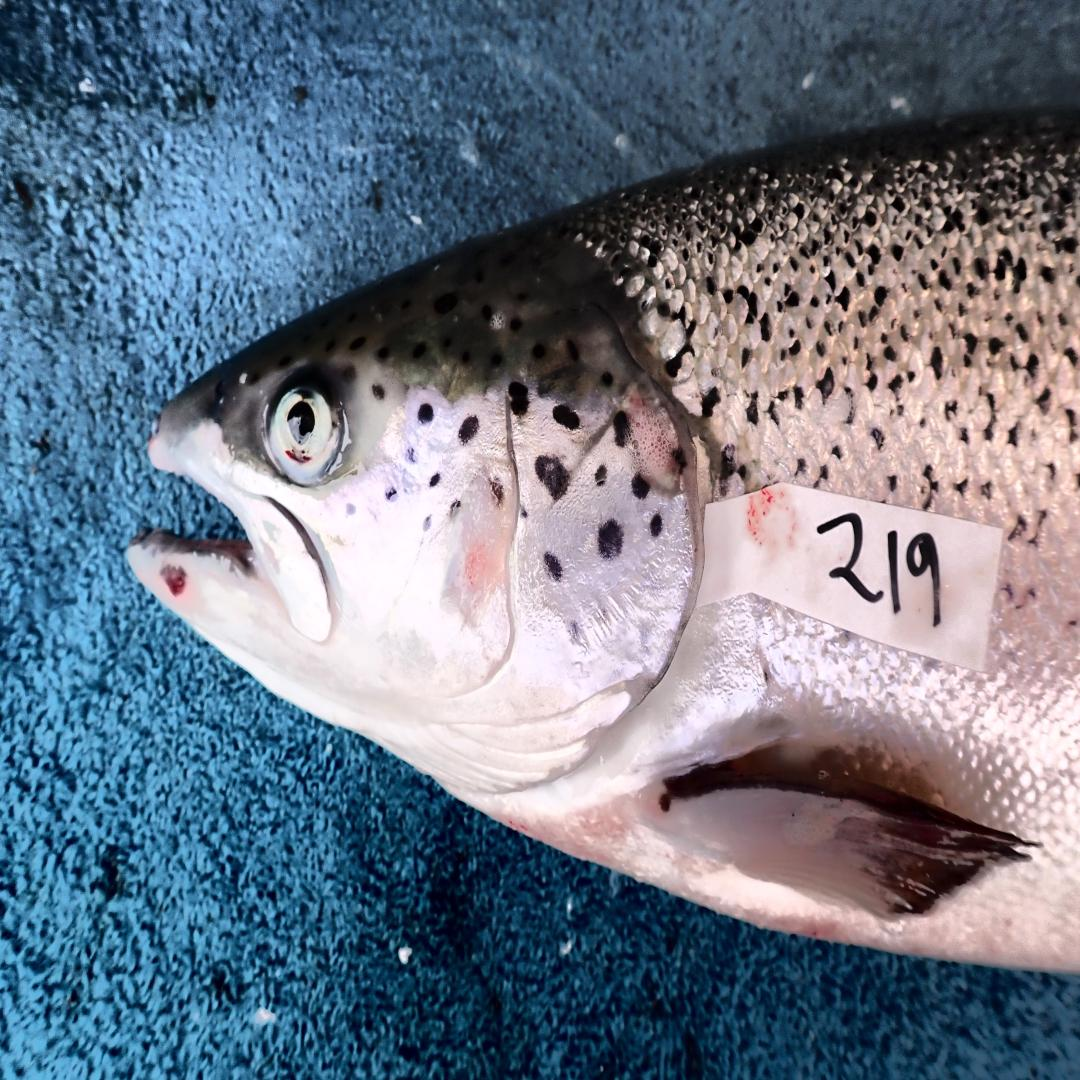spot: (536, 456, 570, 501), (597, 520, 624, 560), (508, 382, 529, 416), (553, 405, 580, 430), (614, 411, 631, 447), (458, 416, 479, 444), (544, 551, 563, 579), (631, 472, 650, 498), (671, 447, 687, 475), (418, 402, 435, 425), (489, 478, 504, 503), (567, 620, 583, 642), (595, 464, 608, 487), (650, 515, 662, 537), (385, 487, 399, 503), (450, 498, 461, 518), (422, 513, 432, 531), (407, 448, 418, 464), (430, 472, 441, 487), (345, 503, 356, 518), (520, 505, 529, 518)
